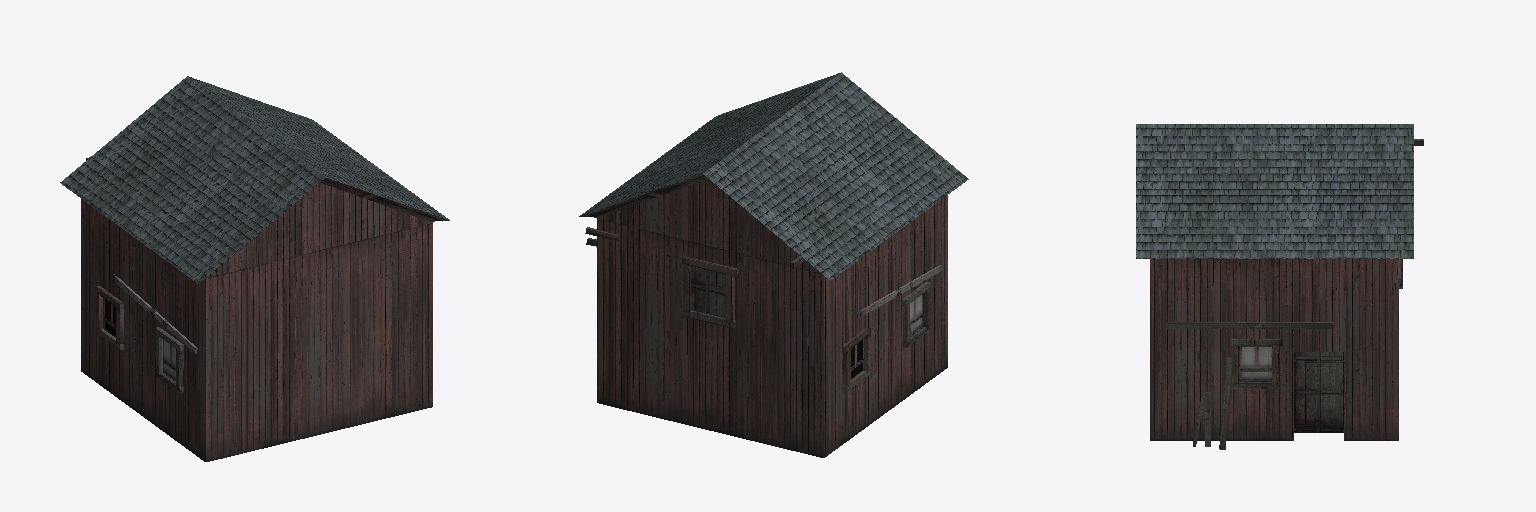
3 renders of one model, left to right at view 1: azimuth 30°, elevation 25°; view 2: azimuth 150°, elevation 25°; view 3: azimuth 270°, elevation 25°, orthographic.
Size of the model in its own units: 7.05 by 6.85 by 6.78.
1 materials, 1 textured.